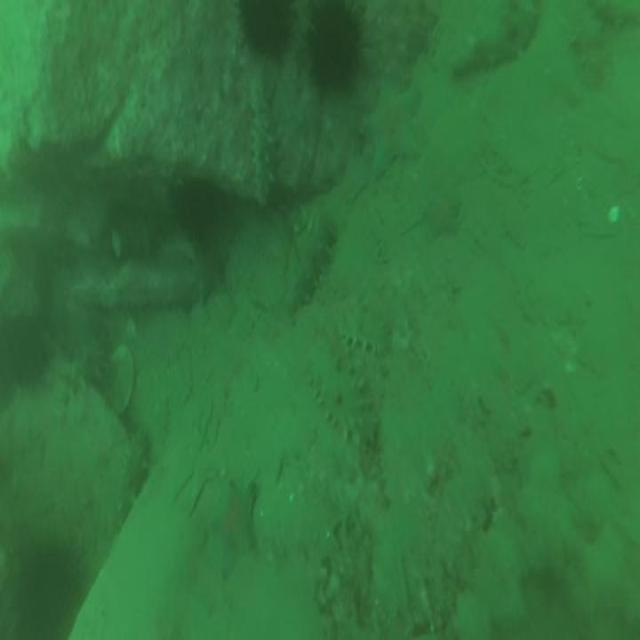echinus: (309, 0, 359, 90), (172, 177, 228, 250), (240, 2, 292, 60)
holothurian: (452, 2, 542, 78), (310, 357, 377, 454), (279, 210, 327, 308), (334, 296, 387, 356), (248, 73, 271, 199)
scallop: (107, 346, 137, 417)
starfish: (363, 78, 416, 180), (209, 479, 257, 575), (423, 184, 460, 246)
